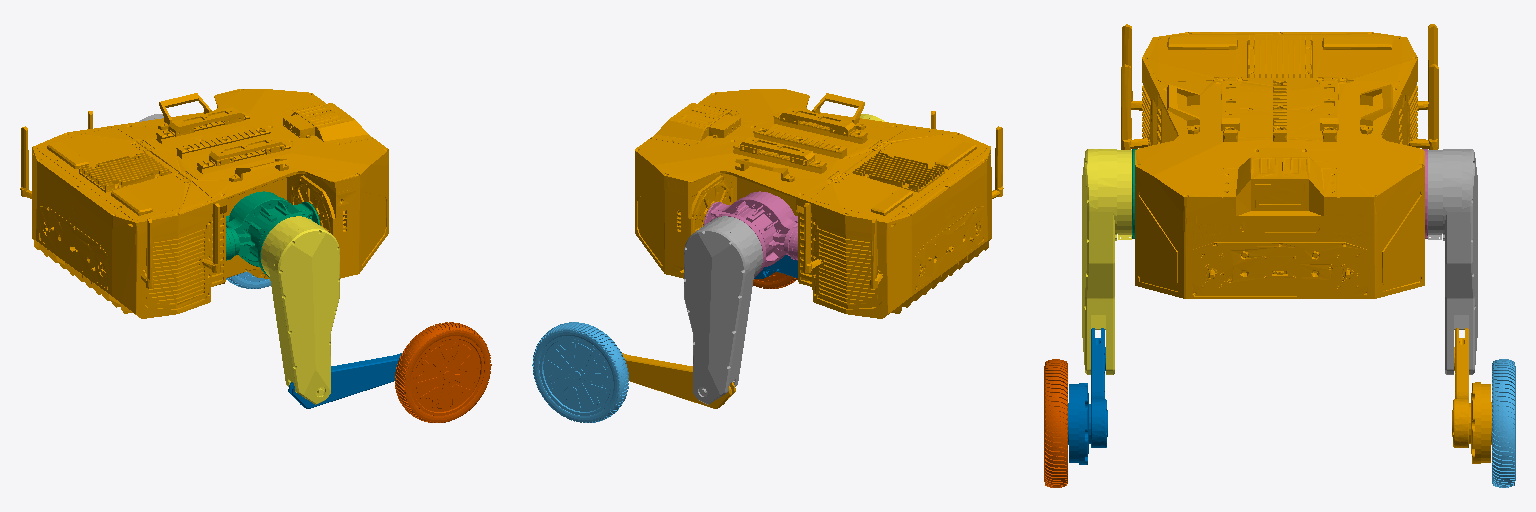
robot.urdf — tita_ros2_control:
<?xml version="1.0" ?>
<!-- =================================================================================== -->
<!-- |    This document was autogenerated by xacro from [local-path]/Desktop/tita_ros2/install/locomotion_bringup/share/locomotion_bringup/urdf/tita.urdf.xacro | -->
<!-- |    EDITING THIS FILE BY HAND IS NOT RECOMMENDED                                 | -->
<!-- =================================================================================== -->
<robot name="tita_ros2_control">
  <material name="black">
    <color rgba="0.19607843137254902 0.19607843137254902 0.19607843137254902 1.0"/>
  </material>
  <material name="blue">
    <color rgba="0.0 0.0 0.8 1.0"/>
  </material>
  <material name="green">
    <color rgba="0.0 0.8 0.0 1.0"/>
  </material>
  <material name="grey">
    <color rgba="0.2 0.2 0.2 1.0"/>
  </material>
  <material name="silver">
    <color rgba="0.9137254901960784 0.9137254901960784 0.8470588235294118 1.0"/>
  </material>
  <material name="orange">
    <color rgba="1.0 0.4235294117647059 0.0392156862745098 1.0"/>
  </material>
  <material name="brown">
    <color rgba="0.8705882352941177 0.8117647058823529 0.7647058823529411 1.0"/>
  </material>
  <material name="red">
    <color rgba="0.8 0.0 0.0 1.0"/>
  </material>
  <material name="white">
    <color rgba="1.0 1.0 1.0 1.0"/>
  </material>
  <link name="base_link">
    <inertial>
      <!-- <origin rpy="0 0 0" xyz="0.020452 3.5457E-06 0.01871"/> -->
      <!-- <origin rpy="0 0 0" xyz="0.04 0.0 0.0"/> -->
      <origin rpy="0 0 0" xyz="-0.01256 -0.0001374 0.029873"/>
      <!-- <mass value="13.2"/> -->
      <!-- <mass value="17.328"/> -->
      <mass value="18.96"/>
      <!--inertia ixx="0.061855" ixy="-2.6029E-05" ixz="0.00081082" iyy="0.036934" iyz="-1.7269E-05" izz="0.071232"/-->
      <!-- <inertia ixx="0.182084475" ixy="-2.6029E-05" ixz="0.00081082" iyy="0.3711" iyz="-1.7269E-05" izz="0.448929922" /> -->
      <!-- <inertia ixx="0.1387" ixy="-2.6029E-05" ixz="0.00081082" iyy="0.2827" iyz="-1.7269E-05" izz="0.3420" /> -->
      <!-- <inertia ixx="0.13871" ixy="-2.6029E-05" ixz="0.00081082" iyy="0.31471" iyz="-1.7269E-05" izz="0.374" /> -->
      <!-- <inertia ixx="0.13871" ixy="0.0" ixz="0.0" iyy="0.31471" iyz="0.0" izz="0.374" /> -->
      <inertia ixx="0.3196735" ixy="0" ixz="0" iyy="0.5268257" iyz="0" izz="0.7383482" />
    </inertial>
    <visual>
      <!-- <origin rpy="0 0 0" xyz="0 0 0.017"/>
      <geometry>
        <box size="0.47 0.3 0.19"/>
      </geometry> -->
      <!-- <material name="black"/> -->
      <origin rpy="0 0 0" xyz="0 0 0"/>
      <geometry>
        <mesh filename="../meshes/base_link.STL"/>
      </geometry>

    </visual>
    <collision>
      <!-- <origin rpy="0 0 0" xyz="0 0 0.017"/> -->
      <origin rpy="0 0 0" xyz="0 0 0"/>
      <geometry>
        <!-- <box size="0.47 0.3 0.19"/> -->
        <!-- <box size="0.50 0.3 0.19" /> -->
        <mesh filename="../meshes/base_link.STL"/>
        <!-- <box size="0.547 0.41 0.185" /> -->
      </geometry>
    </collision>
  </link>
  <link name="spad">
    </link>
  <joint name="spad" type="fixed">
    <origin rpy="2.199 0 1.5708" xyz="0.24052 -0.0019 0.064455"/>
    <parent link="base_link"/>
    <child link="spad"/>
    <axis xyz="0 0 0"/>
  </joint>
  <link name="spad1">
    </link>
  <joint name="spad1" type="fixed">
    <origin rpy="2.632 0 1.5708" xyz="0.21953 -0.0019 -0.030142"/>
    <parent link="base_link"/>
    <child link="spad1"/>
    <axis xyz="0 0 0"/>
  </joint>
  <link name="left_camera">
    </link>
  <joint name="left_camera" type="fixed">
    <origin rpy="1.5708 0 1.5708" xyz="0.23416 0.075 0.04036"/>
    <parent link="base_link"/>
    <child link="left_camera"/>
    <axis xyz="0 0 0"/>
  </joint>
  <link name="ch201">
    </link>
  <joint name="ch201" type="fixed">
    <origin rpy="1.1693 0 1.5708" xyz="0.23782 0 0.018636"/>
    <parent link="base_link"/>
    <child link="ch201"/>
    <axis xyz="0 0 0"/>
  </joint>
  <link name="right_camara">
    </link>
  <joint name="right_camera" type="fixed">
    <origin rpy="1.5708 0 1.5708" xyz="0.23416 -0.075001 0.04036"/>
    <parent link="base_link"/>
    <child link="right_camara"/>
    <axis xyz="0 0 0"/>
  </joint>
  <link name="left_leg_1">
    <inertial>
      <!-- <origin rpy="0 0 0" xyz="0.0016025 5.0253E-05 0.000638"/> -->
      <origin rpy="0 0 0" xyz="-0.0095966 5.1802E-05 -0.0028195"/>
      <!-- <mass value="2.064"/> -->
      <mass value="4.65"/>
      <!-- <inertia ixx="0.0043044" ixy="-1.3538E-07" ixz="8.054E-05" iyy="0.0029982" iyz="-1.5446E-06" izz="0.0022703"/> -->
      <!-- <inertia ixx="0.004096" ixy="-1.3538E-07" ixz="8.054E-05" iyy="0.003768" iyz="-1.5446E-06" izz="0.003768" /> -->
      <inertia ixx="0.00908203125" ixy="0" ixz="0" iyy="0.01567475" iyz="0" izz="0.228956" />
    </inertial>
    <visual>
      <origin rpy="0 0 0" xyz="0 0 0"/>
      <geometry>
         <mesh filename="../meshes/L_1.STL"/>
      </geometry>
      <!-- <material name="black"/> -->
    </visual>
  </link>
  <joint name="joint_left_leg_1" type="revolute">
    <!-- <origin rpy="1.5708 0 1.5708" xyz="0 0.0895 0"/> -->
    <origin rpy="1.5776 -2.4621E-05 1.5708" xyz="0 0.131 0"/>
    <parent link="base_link"/>
    <child link="left_leg_1"/>
    <axis xyz="0 0 1"/>
    <!--limit effort="60" lower="-0.785398" upper="0.785398" velocity="25"/-->
    <limit effort="60" lower="-1.5708" upper="1.5708" velocity="15"/>
  </joint>
  <link name="left_leg_2">
    <inertial>
      <!-- <origin rpy="0 0 0" xyz="0.021763 0.0019069 -0.027868"/> -->
      <origin rpy="0 0 0" xyz="0.099982 0.0028766 -0.0045531"/>
      <!-- <mass value="3.0984"/> -->
      <mass value="3.14"/>
      <!-- <inertia ixx="0.0029784" ixy="-9.6332E-05" ixz="7.878E-05" iyy="0.0064836" iyz="4.3691E-06" izz="0.0088353"/> -->
      <!-- <inertia ixx="0.006793" ixy="-9.6332E-05" ixz="7.878E-05" iyy="0.006793" iyz="4.3691E-06" izz="0.006146" /> -->
      <inertia ixx="0.0041866667" ixy="0" ixz="0" iyy="0.1214306667" iyz="0" izz="0.1247626667" />
    </inertial>
    <visual>
      <origin rpy="0 0 0" xyz="0 0 0"/>
      <geometry>
         <mesh filename="../meshes/L_2.STL"/>
      </geometry>
    </visual>
    <!-- <visual>
      <origin rpy="0 0 -0.131" xyz="0.1 0.021 -0.002"/>
      <geometry>
        <box size="0.2 0.09 0.05"/>
      </geometry>
      <material name="black"/>
    </visual> -->
    <!-- <collision>
      <origin rpy="0 0 -0.131" xyz="0.1 0.021 -0.002"/>
      <geometry>
        <box size="0.2 0.09 0.05"/>
      </geometry>
    </collision> -->
    <!-- <collision>
      <origin rpy="0 0 0" xyz="0 0 0"/>
      <geometry>
        <box size="0.34 0.125 0.04"/>
      </geometry>
    </collision> -->
  </link>
  <joint name="joint_left_leg_2" type="revolute">
    <!-- <origin rpy="-1.5708 0 -1.5708" xyz="0.1426 0 0"/> -->
    <origin rpy="-1.5708 -0.086165 -1.5708" xyz="0.1264 0 0"/>
    <parent link="left_leg_1"/>
    <child link="left_leg_2"/>
    <axis xyz="0 0 1"/>
    <!--limit effort="60" lower="-1.919862" upper="3.490659" velocity="25"/-->
    <limit effort="60" lower="-1.919" upper="2.618" velocity="15"/>
  </joint>
  <link name="left_leg_3">
    <inertial>
      <!-- <origin rpy="0 0 0" xyz="0.095348 0.011698 0.001838"/> -->
      <origin rpy="0 0 0" xyz="0.17019 -0.00040896 0.016709"/>
      <!-- <mass value="0.57244"/> -->
      <mass value="1.59"/>
      <!-- <inertia ixx="0.00030595" ixy="0.00035537" ixz="-0.00011764" iyy="0.0032009" iyz="1.129E-05" izz="0.0034209"/> -->
      <!-- <inertia ixx="0.006077" ixy="0.00035537" ixz="-0.00011764" iyy="0.002028" iyz="1.129E-05" izz="0.002142" /> -->
      <inertia ixx="0.00070225" ixy="0" ixz="0" iyy="0.041605" iyz="0" izz="0.04220125" />
    </inertial>
    <visual>
      <origin rpy="0 0 0" xyz="0 0 0"/>
      <geometry>
         <mesh filename="../meshes/L_3.STL"/>
      </geometry>
      <!-- <origin rpy="0 0 -0.131" xyz="0.1 0.021 -0.002"/>
      <geometry>
        <box size="0.2 0.07 0.05"/>
      </geometry>
      <material name="black"/> -->
    </visual>
    <collision>
      <origin rpy="0 0 0" xyz="0 0 0"/>
      <geometry>
        <!-- <box size="0.2 0.07 0.05"/> -->
        <!-- <box size="0.25 0.07 0.05" /> -->
        <!-- <mesh filename="../meshes/L_3.STL"/> -->
        <box size="0.28 0.07 0.02" />
      </geometry>
    </collision>
  </link>
  <joint name="joint_left_leg_3" type="revolute">
    <!-- <origin rpy="0 0 0" xyz="0.2 0 0"/> -->
    <origin rpy="0 0 0.072636" xyz="0.25 0 0"/>
    <parent link="left_leg_2"/>
    <child link="left_leg_3"/>
    <axis xyz="0 0 1"/>
    <!--limit effort="60" lower="-2.670354" upper="-0.698132" velocity="25"/-->
    <!-- <limit effort="60" lower="-2.670354" upper="-0.698132" velocity="15"/> -->
    <!-- <limit effort="60" lower="-2.094" upper="0.0" velocity="15"/> -->
    <limit effort="60" lower="-2.3562" upper="-0.7854" velocity="15"/>
  </joint>
  <link name="left_leg_4">
    <inertial>
      <!-- <origin rpy="0 0 0" xyz="-2.267E-06 -1.6471E-06 -0.00095616"/> -->
      <origin rpy="0 0 0" xyz="-6.5652E-09 3.4765E-06 -0.00023191"/>
      <!-- <mass value="1.5094"/> -->
      <mass value="1.54"/>
      <!-- <inertia ixx="0.0035466" ixy="6.9816E-06" ixz="-2.3224E-07" iyy="0.0035053" iyz="-1.7712E-08" izz="0.0069049"/> -->
      <!-- <inertia ixx="0.003001" ixy="6.9816E-06" ixz="-2.3224E-07" iyy="0.003001" iyz="-1.7712E-08" izz="0.005713" /> -->
      <inertia ixx="0.0035805" ixy="0" ixz="0" iyy="0.0035805" iyz="0" izz="0.006237" />    
    </inertial>
    <visual>
      <origin rpy="0 0 0" xyz="0 0 0"/>
      <geometry>
         <mesh filename="../meshes/L_4.STL"/>
      </geometry>
      <!-- <origin rpy="0 0 0" xyz="0 0 0"/>
      <geometry>
        <cylinder length="0.034" radius="0.0925"/>
      </geometry>
      <material name="black"/> -->
    </visual>
    <collision>
      <origin rpy="0 0 0" xyz="0 0 0"/>
      <geometry>
        <!-- <cylinder length="0.034" radius="0.0925"/> -->
        <!-- <cylinder radius="0.087" length="0.034" /> -->
        <!-- <mesh filename="../meshes/L_4.STL" /> -->
        <cylinder radius="0.09" length="0.03" />
      </geometry>
    </collision>
  </link>
  <joint name="joint_left_leg_4" type="revolute">
    <!-- <origin rpy="0 0 0" xyz="0.2 0 0.0514"/> -->
    <origin rpy="0 0 -1.5573" xyz="0.22 0 0.0581"/>
    <parent link="left_leg_3"/>
    <child link="left_leg_4"/>
    <axis xyz="0 0 1"/>
    <limit effort="7" lower="-999999" upper="999999" velocity="20"/>
  </joint>
  <link name="right_leg_1">
    <inertial>
      <!-- <origin rpy="0 0 0" xyz="-0.0016025 5.0253E-05 0.00063801"/> -->
      <origin rpy="0 0 0" xyz="0.0096538 5.0707E-05 -0.0022585"/>
      <!-- <mass value="2.064"/> -->
      <mass value="4.65"/>
      <!-- <inertia ixx="0.0043044" ixy="1.3538E-07" ixz="-8.054E-05" iyy="0.0029982" iyz="-1.5359E-06" izz="0.0022703"/> -->       
      <!-- <inertia ixx="0.004096" ixy="-1.3538E-07" ixz="8.054E-05" iyy="0.003768" iyz="-1.5446E-06" izz="0.003768" /> -->
      <!-- <inertia ixx="0.004096" ixy="1.3538E-07" ixz="-8.054E-05" iyy="0.003768" iyz="-1.5446E-06" izz="0.003768" /> -->
      <inertia ixx="0.00908203125" ixy="0" ixz="0" iyy="0.01567475" iyz="0" izz="0.228956" />
    </inertial>
    <visual>
      <origin rpy="0 0 0" xyz="0 0 0"/>
      <geometry>
         <mesh filename="../meshes/R_1.STL"/>
      </geometry>
      <!-- <material name="black"/> -->
    </visual>
  </link>
  <joint name="joint_right_leg_1" type="revolute">
    <!-- <origin rpy="1.5708 0 1.5708" xyz="0 -0.0895 0"/> -->
    <origin rpy="1.5776 -2.4621E-05 1.5708" xyz="0 -0.131 -1.2901E-05"/>
    <parent link="base_link"/>
    <child link="right_leg_1"/>
    <axis xyz="0 0 -1"/>
    <!--limit effort="60" lower="-0.785398" upper="0.785398" velocity="25"/-->
    <!-- <limit effort="60" lower="-0.785398" upper="0.785398" velocity="15"/> -->
    <limit effort="60" lower="-1.5708" upper="1.5708" velocity="15"/>
  </joint>
  <link name="right_leg_2">
    <inertial>
      <!-- <origin rpy="0 0 0" xyz="0.021763 0.0019065 0.027873"/> -->
      <origin rpy="0 0 0" xyz="0.0896183873359781 0.00257781919344477 0.00459219279136702"/>
      <!-- <mass value="3.0984"/> -->
      <mass value="3.14"/>
      <!-- <inertia ixx="0.0029784" ixy="-9.6347E-05" ixz="-7.8776E-05" iyy="0.0064836" iyz="-4.3711E-06" izz="0.0088353"/> -->
      <!-- <inertia ixx="0.006793" ixy="-9.6332E-05" ixz="7.878E-05" iyy="0.006793" iyz="4.3691E-06" izz="0.006146" /> -->
      <!-- <inertia ixx="0.006793" ixy="-9.6332E-05" ixz="-7.878E-05" iyy="0.006793" iyz="-4.3691E-06" izz="0.006146" /> -->
      <inertia ixx="0.0041866667" ixy="0" ixz="0" iyy="0.1214306667" iyz="0" izz="0.1247626667" />
    </inertial>
    <visual>
      <origin rpy="0 0 0" xyz="0 0 0"/>
      <geometry>
         <mesh filename="../meshes/R_2.STL"/>
      </geometry>
    </visual>
    <!-- <visual>
      <origin rpy="0 0 -0.131" xyz="0.1 0.021 -0.002"/>
      <geometry>
        <box size="0.2 0.09 0.05"/>
      </geometry>
      <material name="black"/>
    </visual> -->
    <!-- <collision>
      <origin rpy="0 0 -0.131" xyz="0.1 0.021 -0.002"/>
      <geometry>
        <box size="0.2 0.09 0.05"/>
      </geometry>
    </collision> -->
    <!-- <collision>
      <origin rpy="0 0 0" xyz="0 0 0"/>
      <geometry>
        <box size="0.34 0.125 0.04"/>
      </geometry>
    </collision> -->
  </link>
  <joint name="joint_right_leg_2" type="revolute">
    <!-- <origin rpy="-1.5708 0 -1.5708" xyz="-0.1426 0 0"/> -->
    <origin rpy="-1.5708 -0.086869 -1.5708" xyz="-0.1264 0 0"/>
    <parent link="right_leg_1"/>
    <child link="right_leg_2"/>
    <axis xyz="0 0 1"/>
    <!--limit effort="60" lower="-1.919862" upper="3.490659" velocity="25"/-->
    <!-- <limit effort="60" lower="-1.919862" upper="3.490659" velocity="15"/> -->
    <limit effort="60" lower="-1.919" upper="2.618" velocity="15"/>
  </joint>
  <link name="right_leg_3">
    <inertial>
      <!-- <origin rpy="0 0 0" xyz="0.095348 0.011698 -0.001838"/> -->
      <origin rpy="0 0 0" xyz="0.17012 -0.00044464 -0.016709"/>
      <!-- <mass value="0.57244"/> -->
      <mass value="1.59"/>
      <!-- <inertia ixx="0.00030595" ixy="0.00035537" ixz="0.00011764" iyy="0.0032009" iyz="-1.129E-05" izz="0.0034209"/> -->
      <!-- <inertia ixx="0.006077" ixy="0.00035537" ixz="-0.00011764" iyy="0.002028" iyz="1.129E-05" izz="0.002142" /> -->
      <!-- <inertia ixx="0.006077" ixy="0.00035537" ixz="0.00011764" iyy="0.002028" iyz="-1.129E-05" izz="0.002142" /> -->
      <inertia ixx="0.00070225" ixy="0" ixz="0" iyy="0.041605" iyz="0" izz="0.04220125" />
    </inertial>
    <visual>
      <origin rpy="0 0 0" xyz="0 0 0"/>
      <geometry>
         <mesh filename="../meshes/R_3.STL"/>
      </geometry>
      <!-- <origin rpy="0 0 -0.131" xyz="0.1 0.021 -0.002"/>
      <geometry>
        <box size="0.2 0.07 0.05"/>
      </geometry> -->
      <!-- <material name="black"/> -->
    </visual>
    <collision>
      <!-- <origin rpy="0 0 -0.131" xyz="0.1 0.021 -0.002"/> -->
      <origin rpy="0 0 0" xyz="0 0 0"/>
      <geometry>
        <!-- <box size="0.2 0.07 0.05"/> -->
        <!-- <box size="0.25 0.07 0.05" /> -->
        <!-- <mesh filename="../meshes/R_3.STL"/> -->
        <box size="0.28 0.07 0.02" />
      </geometry>
    </collision>
  </link>
  <joint name="joint_right_leg_3" type="revolute">
    <!-- <origin rpy="0 0 0" xyz="0.2 0 0"/> -->
    <origin rpy="0 0 0.074137" xyz="0.25 0 0"/>
    <parent link="right_leg_2"/>
    <child link="right_leg_3"/>
    <axis xyz="0 0 1"/>
    <!--limit effort="60" lower="-2.670354" upper="-0.698132" velocity="25"/-->
    <!-- <limit effort="60" lower="-2.670354" upper="-0.698132" velocity="15"/> -->
    <limit effort="60" lower="-2.3562" upper="-0.7854" velocity="15"/>
  </joint>
  <link name="right_leg_4">
    <inertial>
      <!-- <origin rpy="0 0 0" xyz="-2.3798E-06 -1.5854E-06 0.00095595"/> -->
      <origin rpy="0 0 0" xyz="-2.4651E-06 -2.4515E-06 0.00058191"/>
      <!-- <mass value="1.5094"/> -->
      <mass value="1.54"/>
      <!-- <inertia ixx="0.0035465" ixy="7.0548E-06" ixz="2.3146E-07" iyy="0.0035052" iyz="1.9287E-08" izz="0.0069047"/> -->
      <!-- <inertia ixx="0.003001" ixy="6.9816E-06" ixz="-2.3224E-07" iyy="0.003001" iyz="-1.7712E-08" izz="0.005713" /> -->
      <!-- <inertia ixx="0.003001" ixy="6.9816E-06" ixz="2.3224E-07" iyy="0.003001" iyz="1.7712E-08" izz="0.005713" /> -->
      <inertia ixx="0.0035805" ixy="0" ixz="0" iyy="0.0035805" iyz="0" izz="0.006237" />
    </inertial>
    <visual>
      <origin rpy="0 0 0" xyz="0 0 0"/>
      <geometry>
         <mesh filename="../meshes/R_4.STL"/>
      </geometry>
      <!-- <origin rpy="0 0 0" xyz="0 0 0"/>
      <geometry>
        <cylinder length="0.034" radius="0.0925"/>
      </geometry>
      <material name="black"/> -->
    </visual>
    <collision>
      <origin rpy="0 0 0" xyz="0 0 0"/>
      <geometry>
        <!-- <cylinder length="0.034" radius="0.0925"/> -->
        <!-- <cylinder radius="0.087" length="0.034" /> -->
        <!-- <mesh filename="../meshes/R_4.STL"/> -->
        <cylinder radius="0.09" length="0.03" />
      </geometry>
    </collision>
  </link>
  <joint name="joint_right_leg_4" type="revolute">
    <!-- <origin rpy="0 0 0" xyz="0.2 0 -0.0514"/> -->
    <origin rpy="0 0 -1.5581" xyz="0.22 0 -0.05845"/>
    <parent link="right_leg_3"/>
    <child link="right_leg_4"/>
    <axis xyz="0 0 1"/>
    <limit effort="7" lower="-999999" upper="999999" velocity="20"/>
  </joint>

  <!-- <link
    name="Radar">
    <inertial>
      <origin
        xyz="0 0 0"
        rpy="0 0 0" />
      <mass
        value="0" />
      <inertia
        ixx="0"
        ixy="0"
        ixz="0"
        iyy="0"
        iyz="0"
        izz="0" />
    </inertial>
    <visual>
      <origin
        xyz="0 0 0"
        rpy="0 0 0" />
      <geometry>
        <mesh
          filename="../meshes/Radar.STL" />
      </geometry>
      <material
        name="">
        <color
          rgba="1 1 1 1" />
      </material>
    </visual>
    <collision>
      <origin
        xyz="0 0 0"
        rpy="0 0 0" />
      <geometry>
        <mesh
          filename="../meshes/Radar.STL" />
      </geometry>
    </collision>
    </link>
    <joint
      name="R_J"
      type="revolute">
      <origin
        xyz="0.18706 -1.039E-05 -0.067865"
        rpy="3.1415 0.25504 3.1414" />
      <parent
        link="base_link" />
      <child
        link="Radar" />
      <axis
        xyz="0 0 -1" />
      <limit
        lower="0"
        upper="0"
        effort="0"
        velocity="0" />
    </joint> -->
</robot>

--- Facts derived from the render (not from the file) ---
Views: 3 orthographic renders of the robot side by side, from view 1: azimuth 30°, elevation 25°; view 2: azimuth 150°, elevation 25°; view 3: azimuth 270°, elevation 25°.
Model tita_ros2_control with 14 links and 13 joints (8 revolute, 5 fixed), rooted at base_link, posed all joints at 0 but 2 set to mid-range because 0 is outside their limits (joint_left_leg_3 = -1.57, joint_right_leg_3 = -1.57).
Visible links, largest first — view 1: base_link, right_leg_2, right_leg_4, right_leg_1, right_leg_3, left_leg_3; view 2: base_link, left_leg_2, left_leg_4, left_leg_1, left_leg_3, right_leg_3; view 3: base_link, right_leg_2, left_leg_2, right_leg_3, left_leg_3, right_leg_4, left_leg_4.
Boxes of the visible links, x1=… form: base_link: x1=20, y1=89, x2=388, y2=318; right_leg_2: x1=261, y1=216, x2=339, y2=404; right_leg_4: x1=395, y1=322, x2=491, y2=422; right_leg_1: x1=226, y1=191, x2=320, y2=277; right_leg_3: x1=288, y1=353, x2=401, y2=408; left_leg_3: x1=226, y1=255, x2=269, y2=278; base_link: x1=635, y1=89, x2=1003, y2=318; left_leg_2: x1=684, y1=216, x2=762, y2=404; left_leg_4: x1=532, y1=322, x2=628, y2=422; left_leg_1: x1=703, y1=191, x2=797, y2=277; left_leg_3: x1=622, y1=353, x2=735, y2=408; right_leg_3: x1=754, y1=255, x2=797, y2=278; base_link: x1=1121, y1=24, x2=1438, y2=298; right_leg_2: x1=1082, y1=149, x2=1131, y2=374; left_leg_2: x1=1428, y1=149, x2=1477, y2=374; right_leg_3: x1=1068, y1=328, x2=1107, y2=464; left_leg_3: x1=1452, y1=328, x2=1491, y2=463; right_leg_4: x1=1044, y1=359, x2=1067, y2=487; left_leg_4: x1=1492, y1=359, x2=1515, y2=487.
Size in the robot's own frame: 0.6492 by 0.6654 by 0.4843 metres.
9 mesh visuals loaded from 9 distinct referenced files (9 binary STL).
